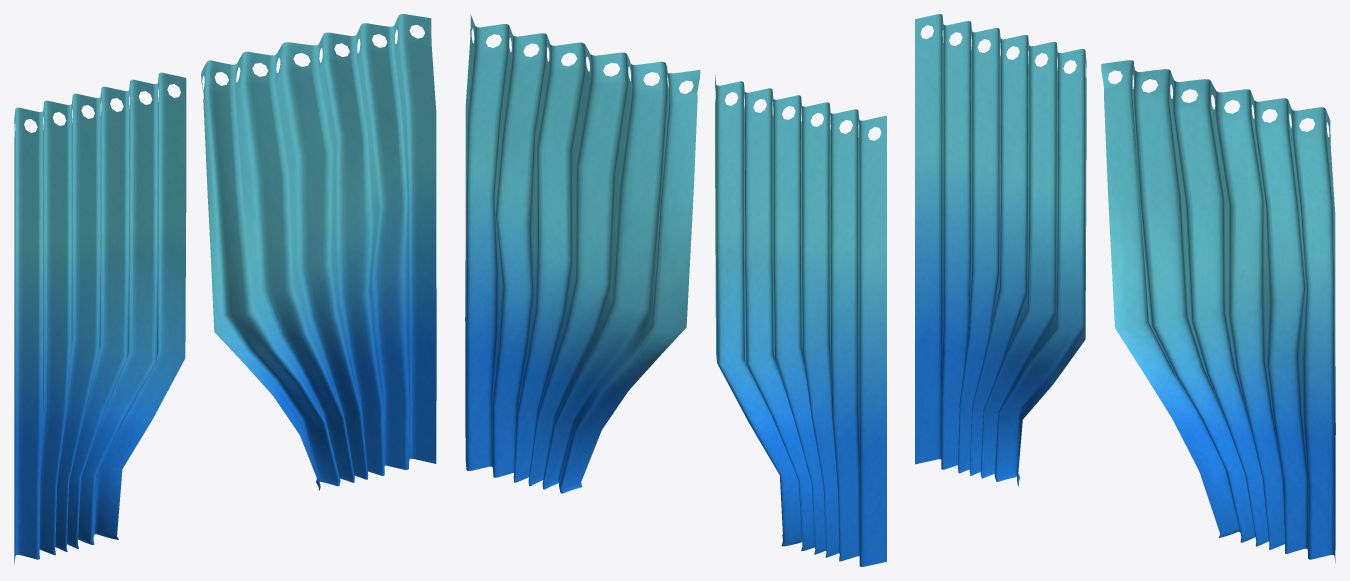
The model's file is Curtain-ImprovedUVs_SD.fbx.
The picture shows the model from 3 angles, left to right: view 1: azimuth 30°, elevation 25°; view 2: azimuth 150°, elevation 25°; view 3: azimuth 330°, elevation 25°; orthographic projection.
Parts seen in each view (by area): view 1: CurtainFolds_left.001, CurtainFolds_left; view 2: CurtainFolds_left.001, CurtainFolds_left; view 3: CurtainFolds_left.001, CurtainFolds_left.
Boxes of the visible parts, box(x1,y1,x2,y2) form: CurtainFolds_left.001: box(201, 14, 436, 490); CurtainFolds_left: box(14, 72, 186, 564); CurtainFolds_left.001: box(465, 14, 700, 493); CurtainFolds_left: box(715, 75, 886, 566); CurtainFolds_left.001: box(1101, 60, 1335, 563); CurtainFolds_left: box(915, 14, 1086, 487).
Size of the model in its own units: 179 by 181 by 8.69.
